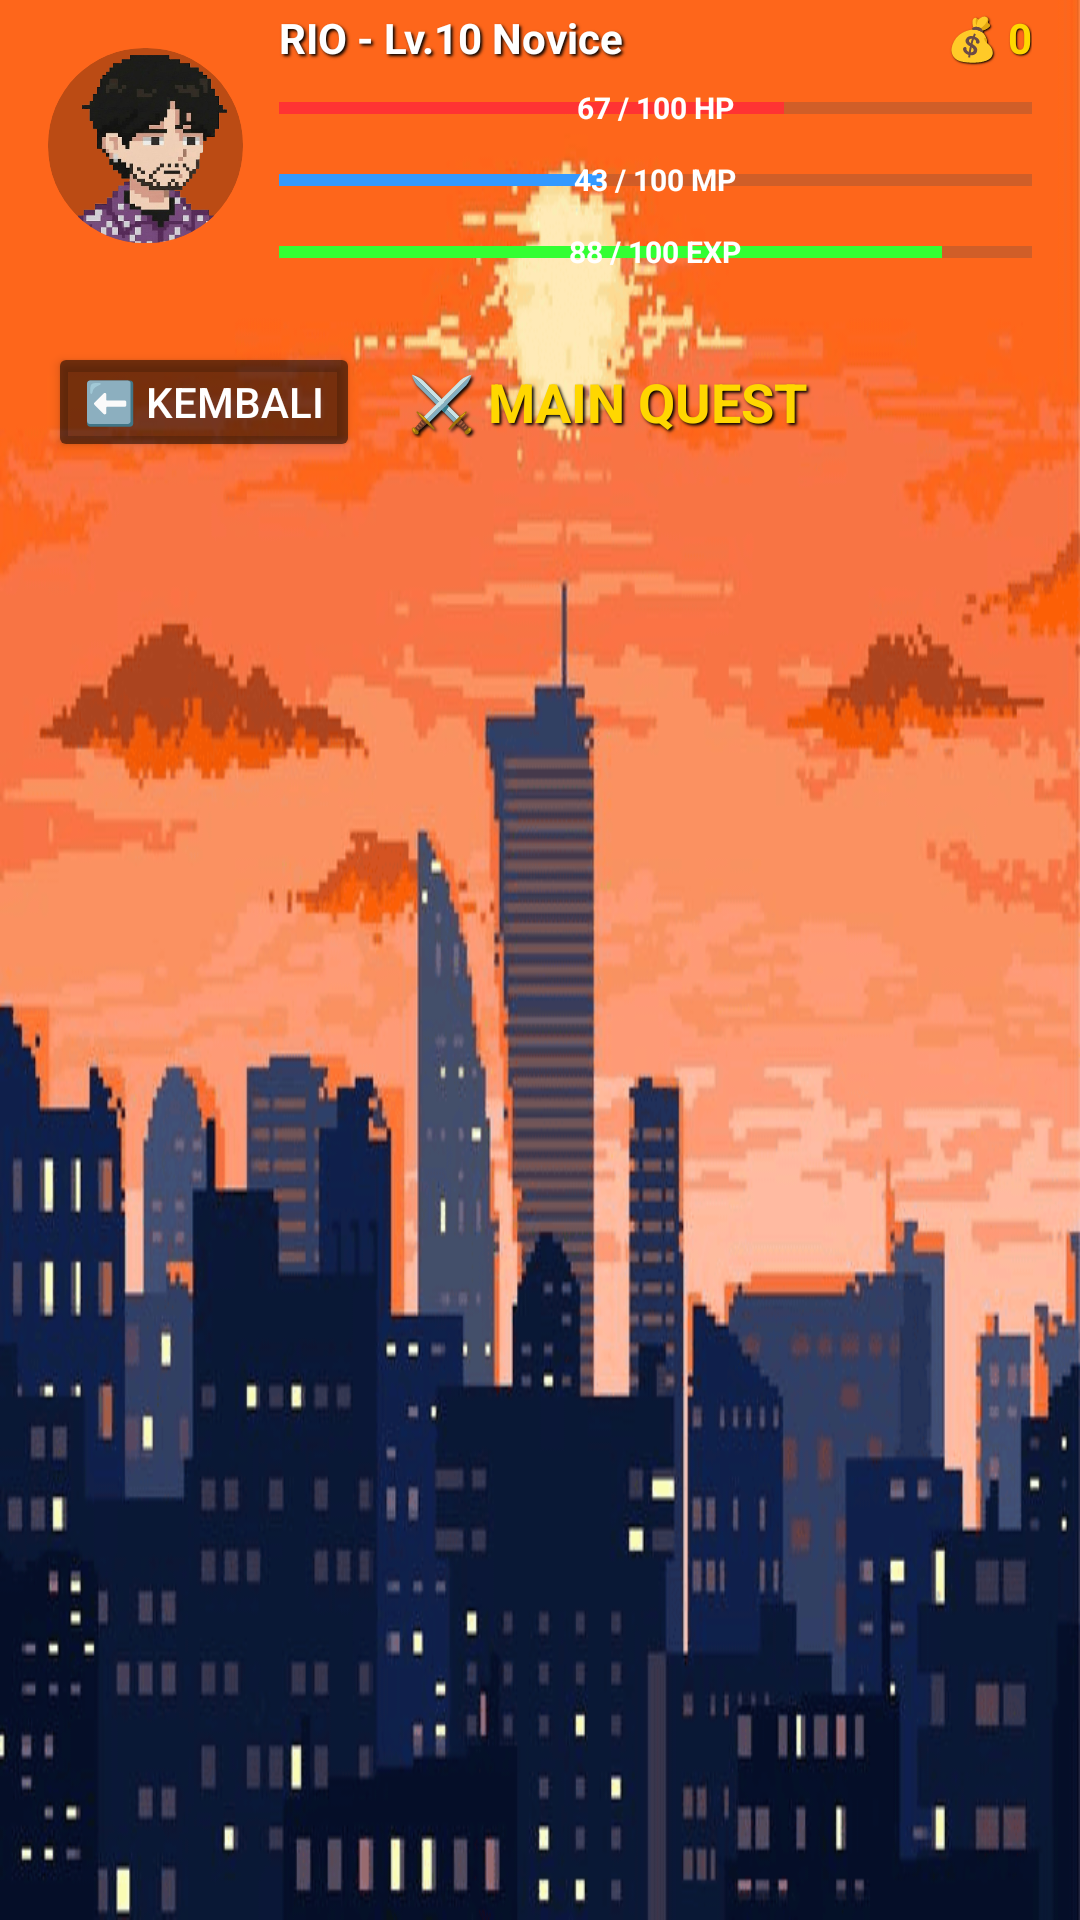

Icons on this 1080*1920 Android screen, each with its box as (x1, y1, x2, y2):
kepala: (48, 48, 243, 243)
